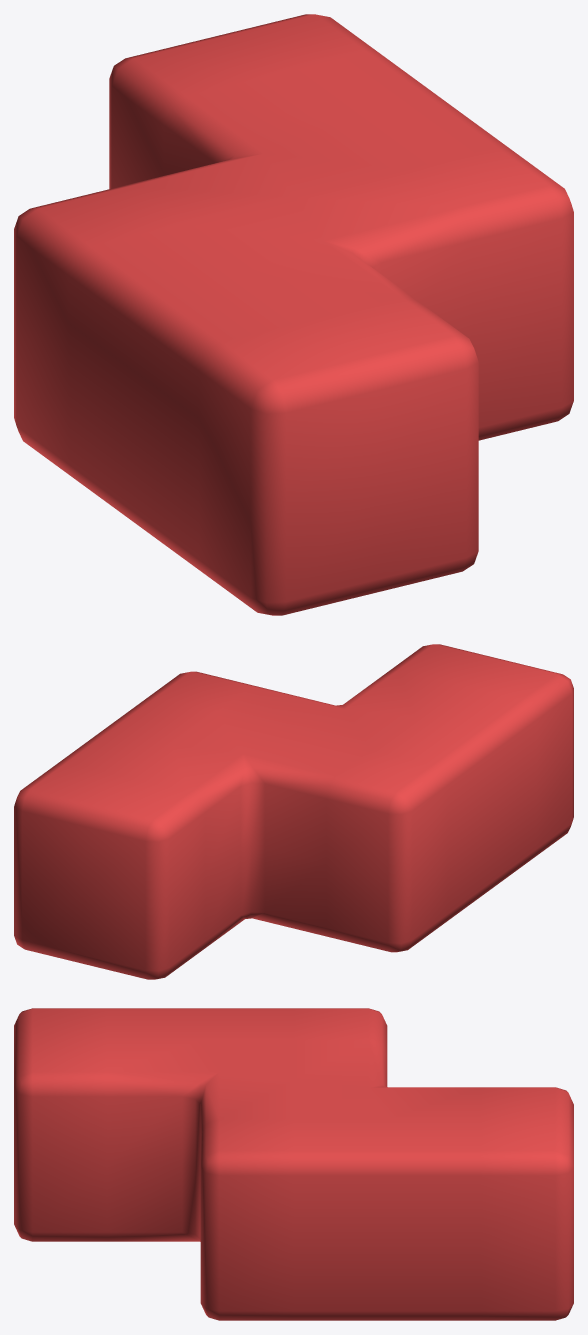
Rendered from tetrisZ-glass.obj.
3 renders of one model, top to bottom at view 1: azimuth 30°, elevation 25°; view 2: azimuth 150°, elevation 25°; view 3: azimuth 270°, elevation 25°, orthographic. The views are drawn at different scales.
Visible parts, largest first — view 1: Cube; view 2: Cube; view 3: Cube.
Boxes of the visible parts, <box> form: Cube: <box>14,14,573,615</box>; Cube: <box>14,644,573,979</box>; Cube: <box>14,1008,573,1320</box>.
Bounding box in the file's own units: 0.3 × 0.15 × 0.45.
